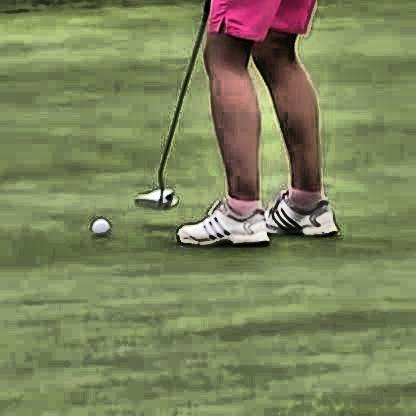golfball: (88, 212, 110, 234)
